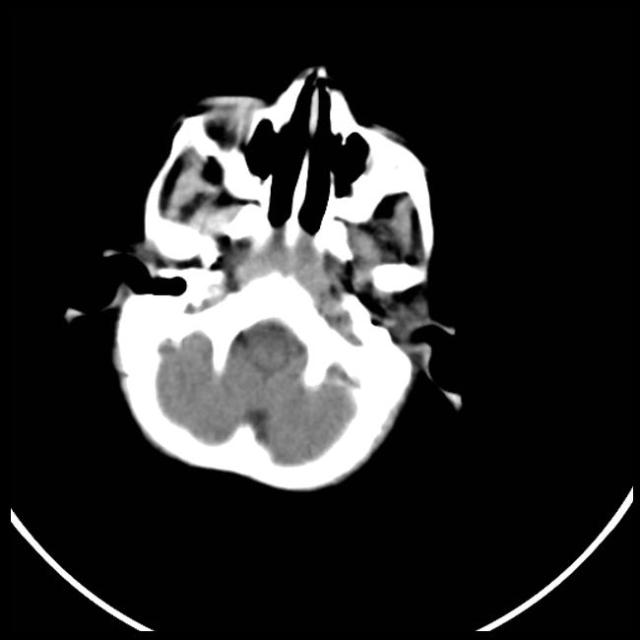lesion: (86, 61, 467, 495)
